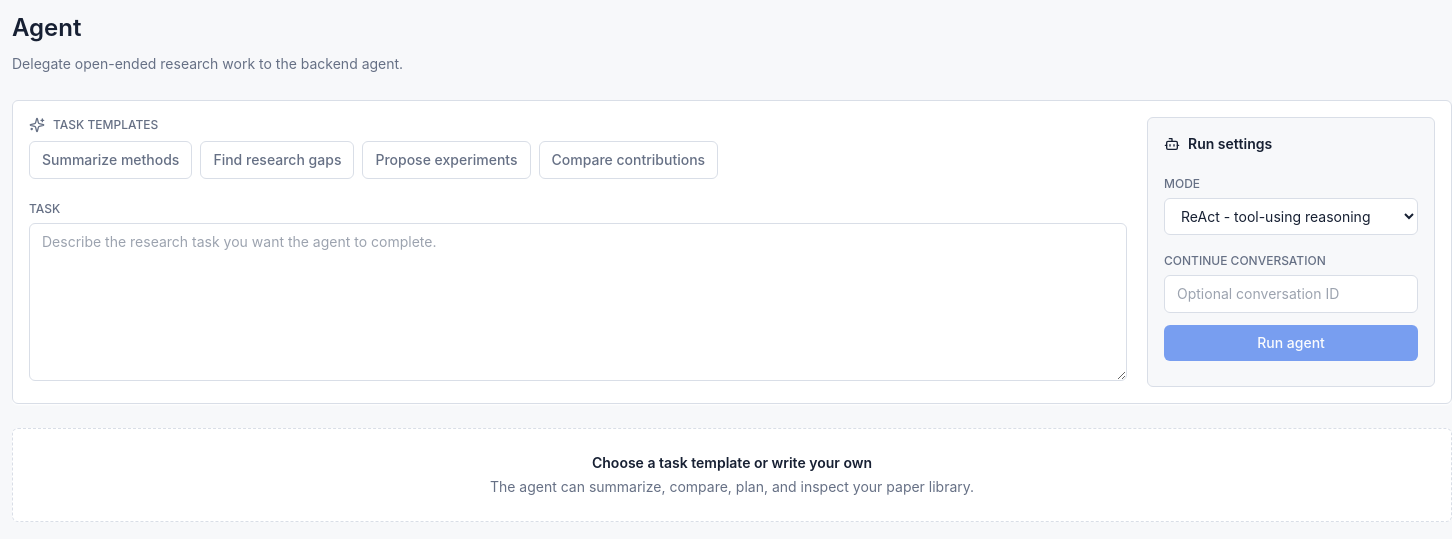
Test case: AgentPage › shows running feedback while the agent is executing
Click the button "Find research gaps". click: (277, 160)
box: [200,141,354,179]
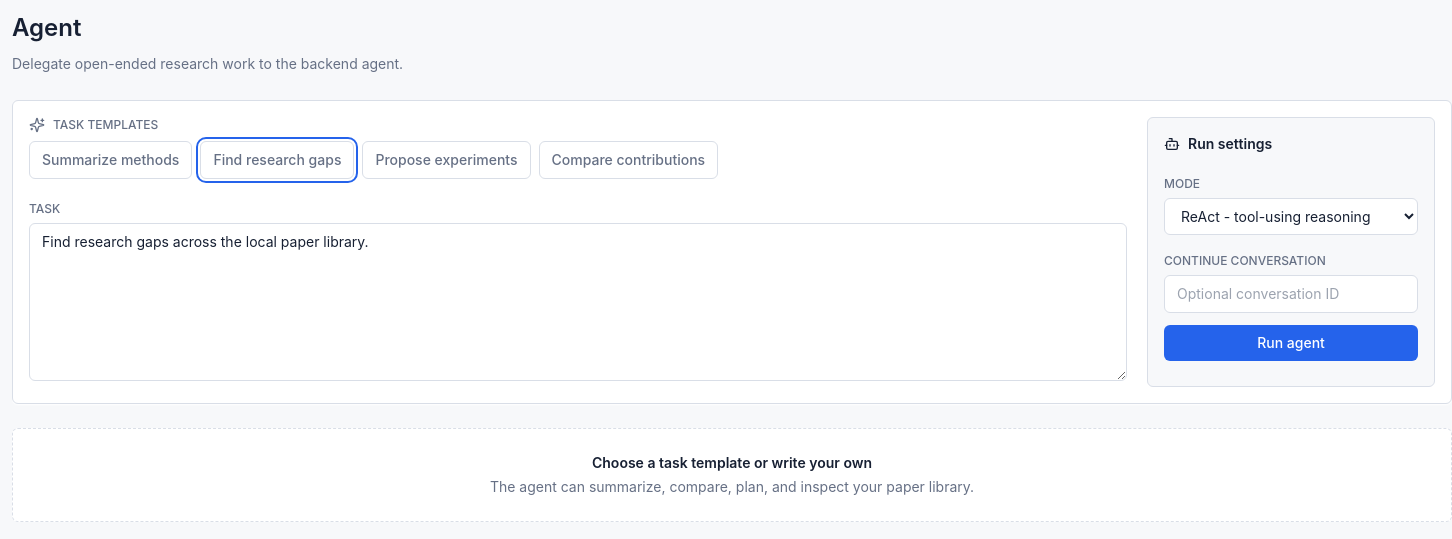
Click the button "Run agent". click: (1291, 343)
box: [1164,325,1418,361]
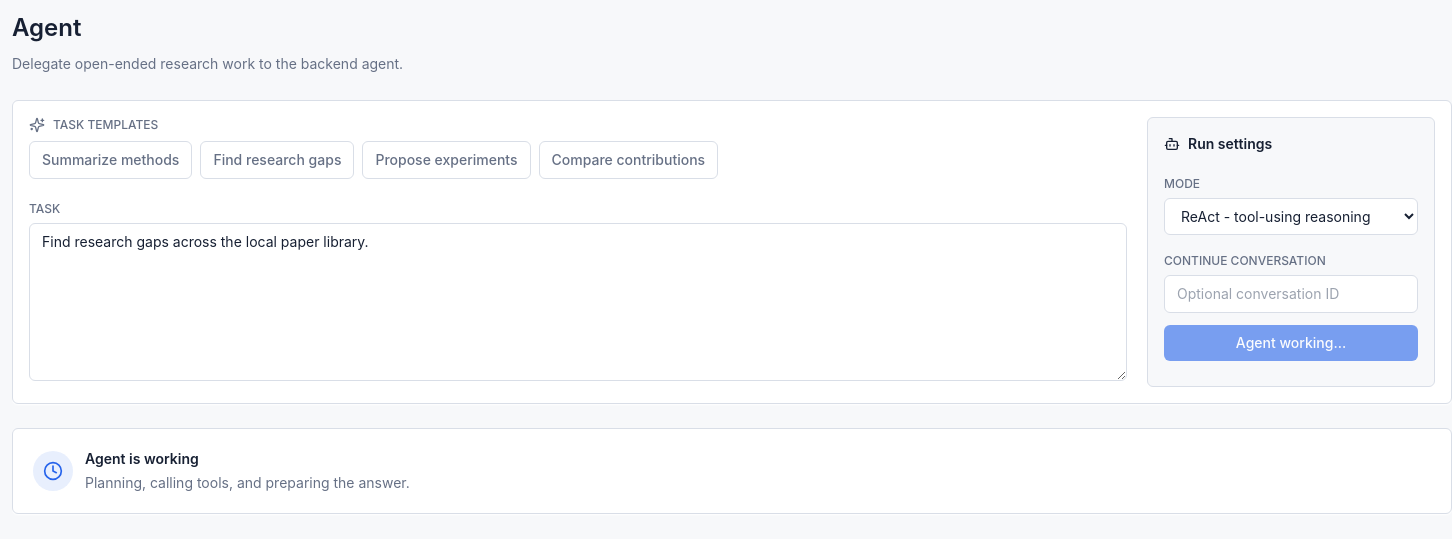
Result: the heading "Agent is working" is shown at [85,450,199,467]
Result: the button "Agent working..." is disabled at [1164,325,1418,361]
